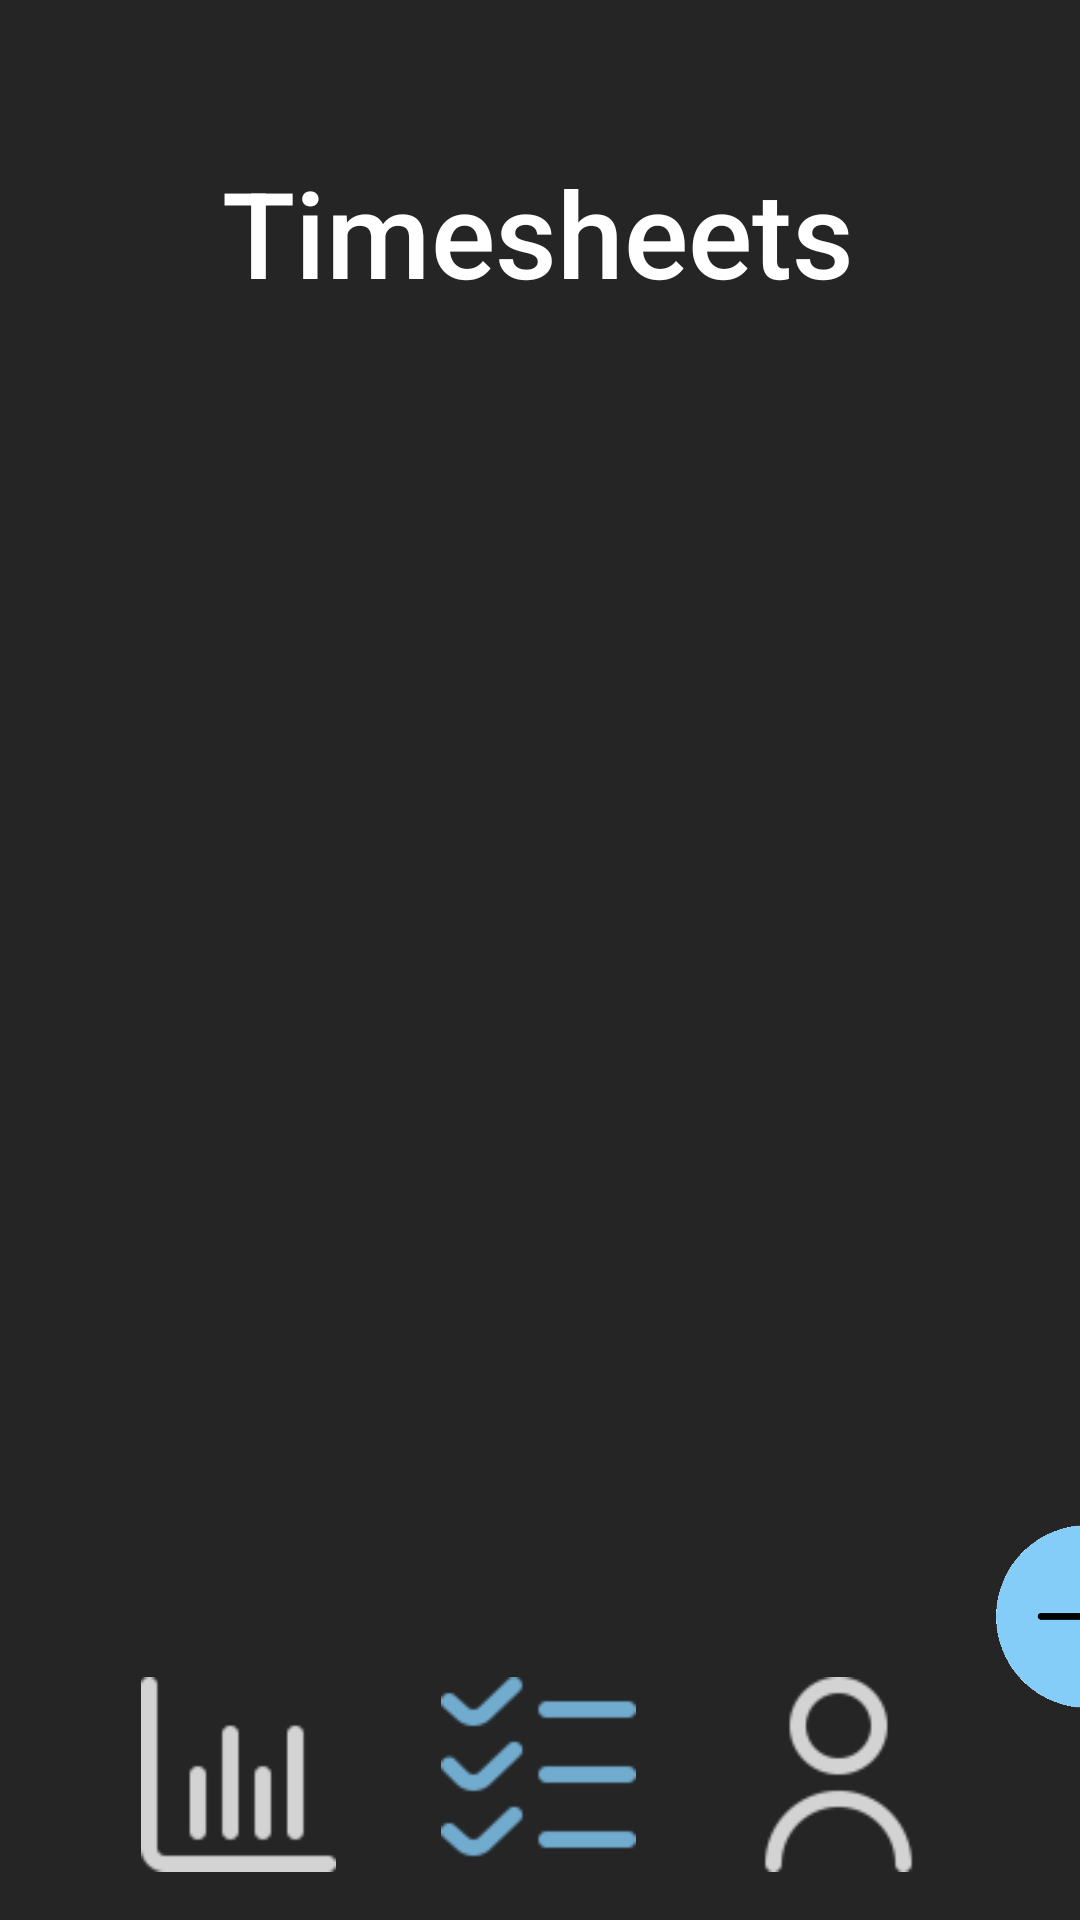

Named icons in this screenshot (1080×1920) and their centers, (x=x, y=y):
profileblack: (x=838, y=1774)
progressblack: (x=238, y=1774)
timehseetblue: (x=538, y=1767)
